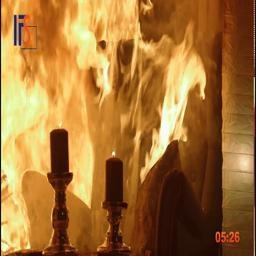fire: (3, 0, 207, 248)
